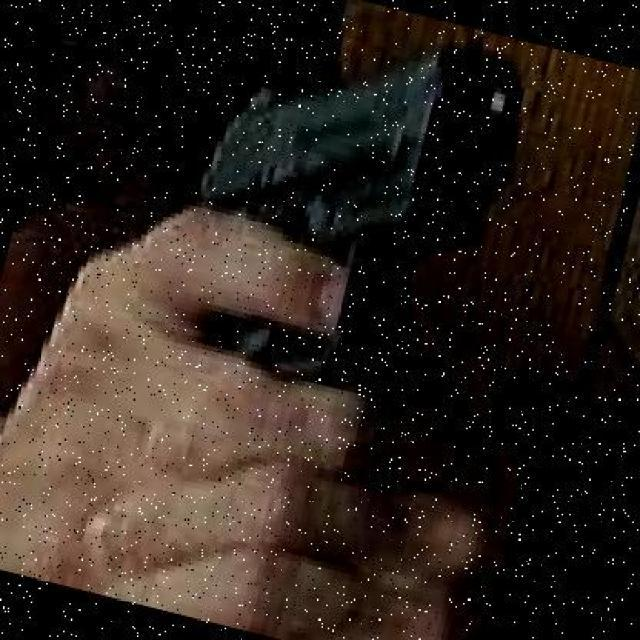rifle: (0, 256, 485, 638), (179, 35, 544, 243), (134, 204, 351, 338)
